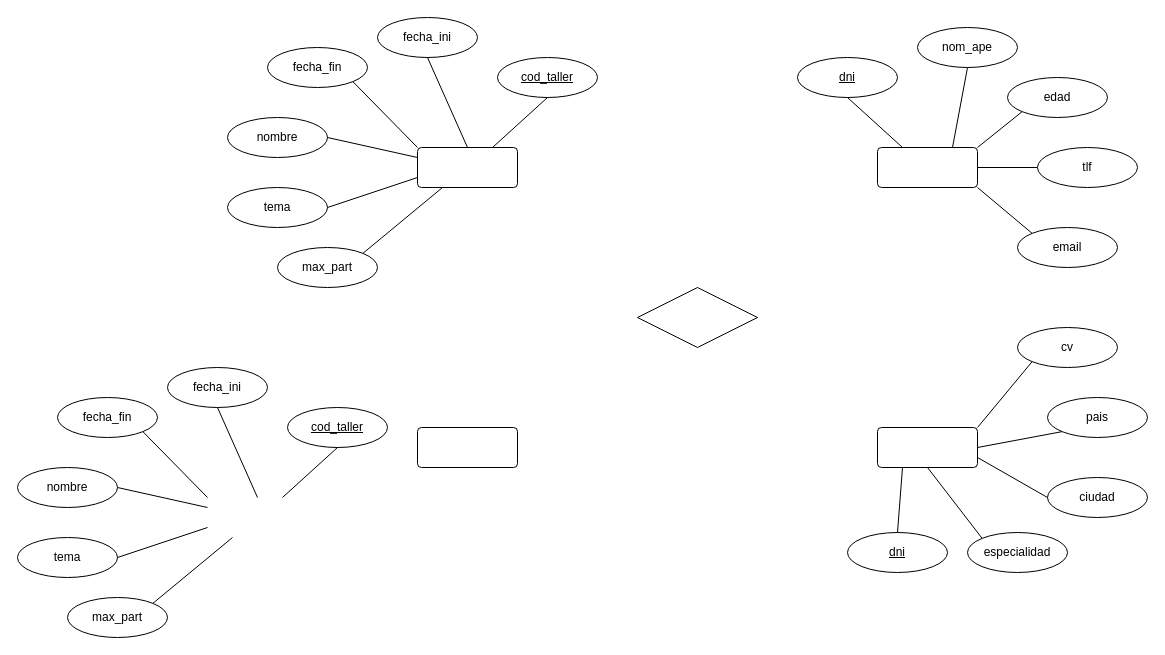
The diagram is 1165 pixels wide and 655 high, and some of its shapes have lost their labels. Here are the shapes that lost their labels. From the top down, the box of each, then its label:
(416, 146, 518, 188): Talleres
(876, 146, 978, 188): Participantes
(636, 286, 758, 348): Relationship
(416, 426, 518, 468): Espacios
(876, 426, 978, 468): Instructores
